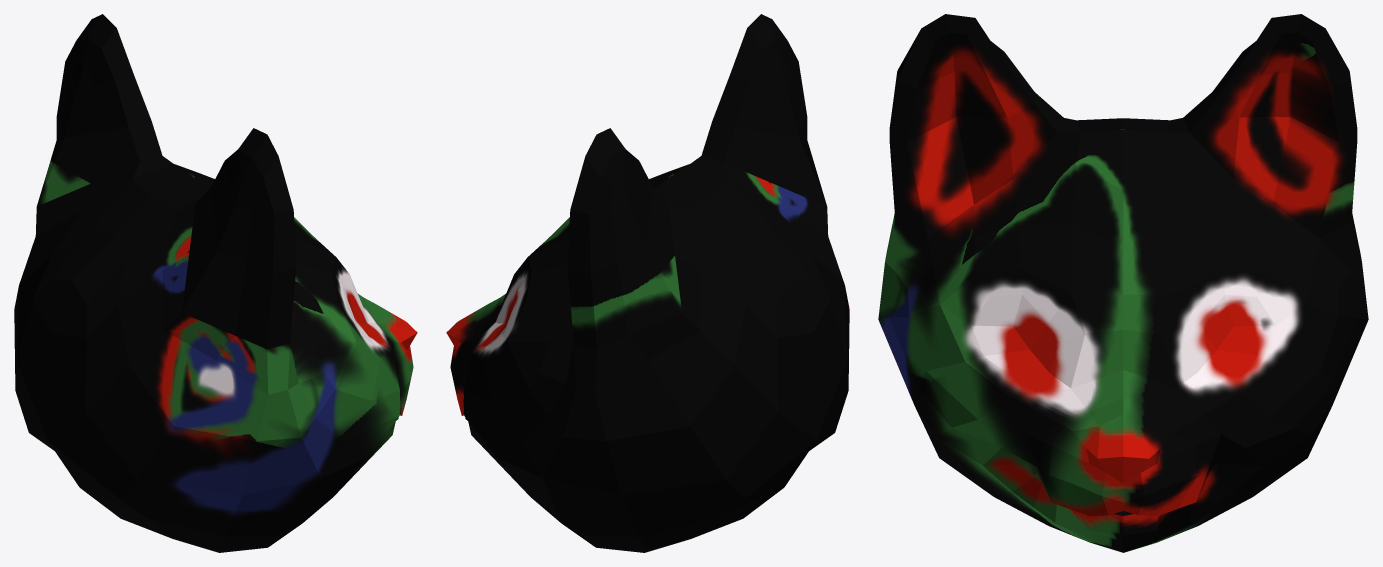
Rendered from nailsalon-cat1.fbx.
3 renders of one model, left to right at view 1: azimuth 30°, elevation 25°; view 2: azimuth 150°, elevation 25°; view 3: azimuth 270°, elevation 25°, orthographic. The views are drawn at different scales.
Visible parts, largest first — view 1: Cat.midPoly; view 2: Cat.midPoly; view 3: Cat.midPoly.
Part boxes in pixels (x1=…): Cat.midPoly: x1=14, y1=14, x2=417, y2=552; Cat.midPoly: x1=446, y1=14, x2=849, y2=552; Cat.midPoly: x1=878, y1=14, x2=1368, y2=552.
Bounding box in the file's own units: 184 × 227 × 202.
